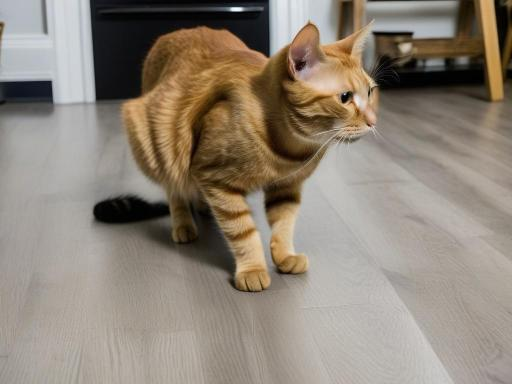cat_standing: (94, 22, 378, 292)
